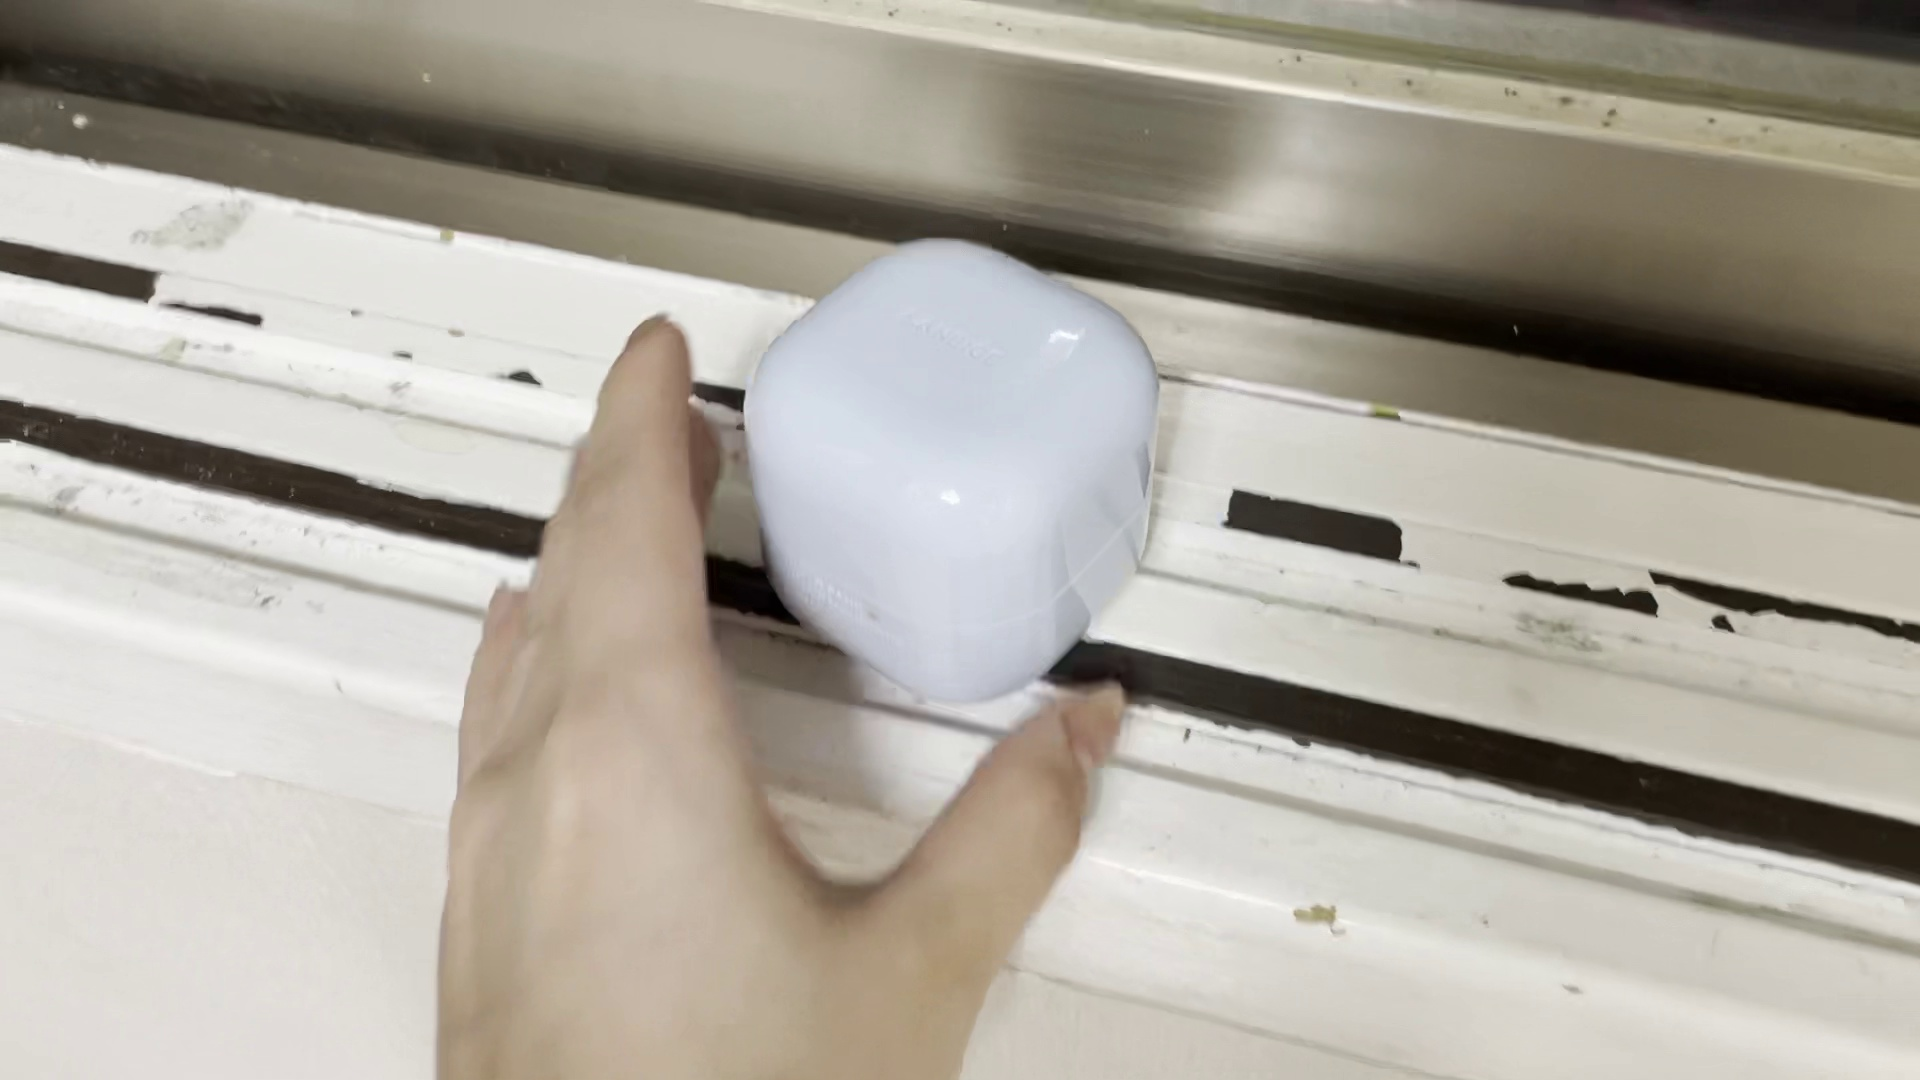cream: (748, 235, 1154, 705)
